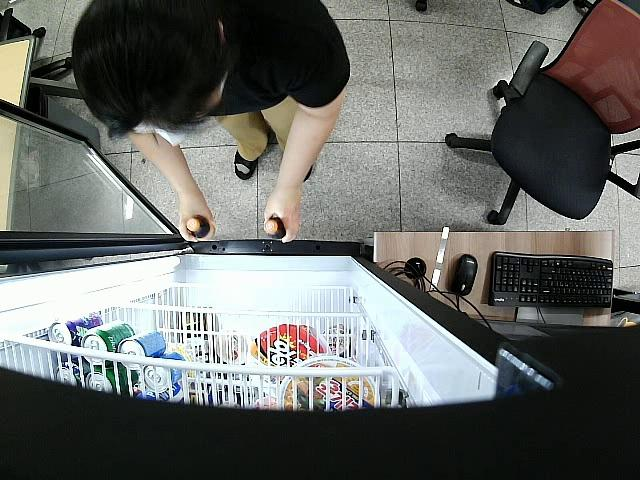00_hand: (264, 194, 303, 244), (179, 191, 213, 242)
17_vita500: (185, 215, 209, 239), (263, 216, 286, 240)
